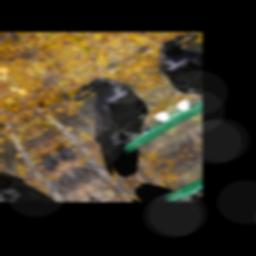Crow: (49, 68, 185, 184)
